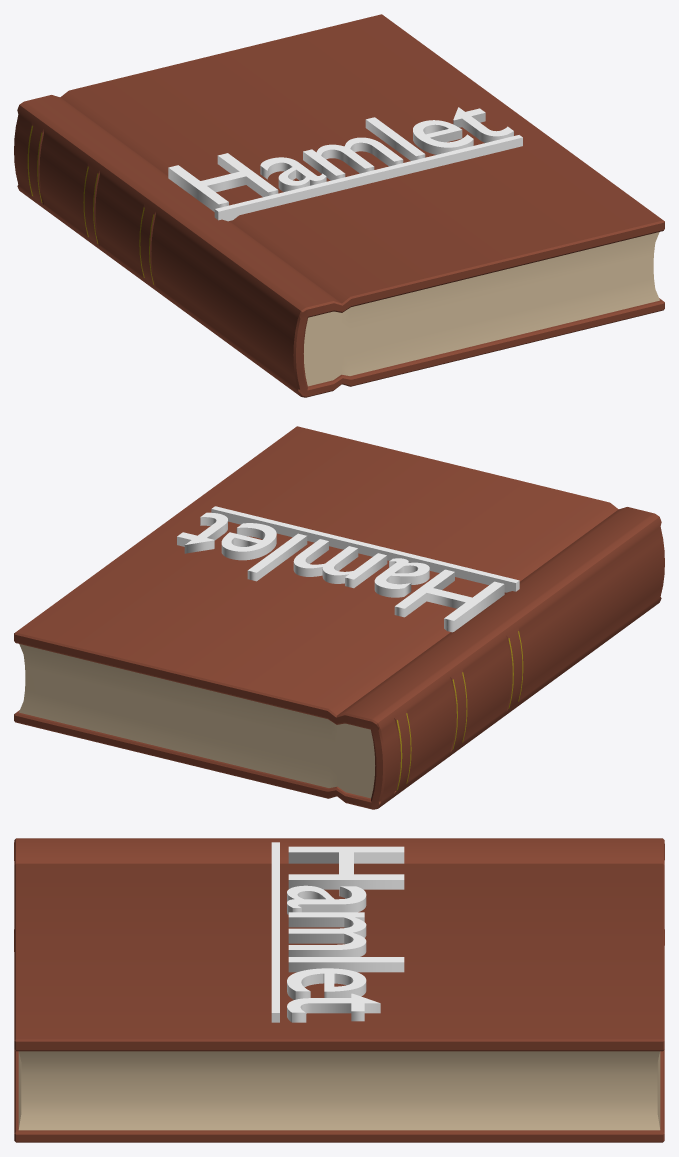
The model's file is hamletbook.fbx.
The picture shows the model from 3 angles, top to bottom: view 1: azimuth 30°, elevation 25°; view 2: azimuth 150°, elevation 25°; view 3: azimuth 270°, elevation 25°; orthographic projection. The views are drawn at different scales.
Parts seen in each view (by area): view 1: Buch, Text; view 2: Buch, Text; view 3: Buch, Text.
Part boxes in pixels (bbox=[...]): Buch: bbox=[14, 14, 664, 397]; Text: bbox=[168, 107, 522, 221]; Buch: bbox=[14, 426, 664, 809]; Text: bbox=[177, 506, 519, 632]; Buch: bbox=[14, 838, 664, 1142]; Text: bbox=[271, 842, 404, 1022].
Bounding box in the file's own units: 0.6516 × 0.1655 × 0.8617.
